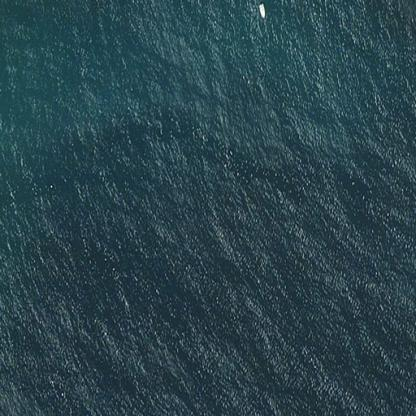ship: (251, 0, 271, 23)
